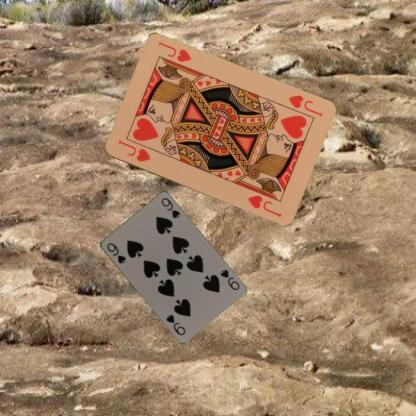9s: (104, 240, 127, 265), (218, 266, 240, 291)
Jh: (286, 92, 324, 118), (115, 138, 151, 164)
